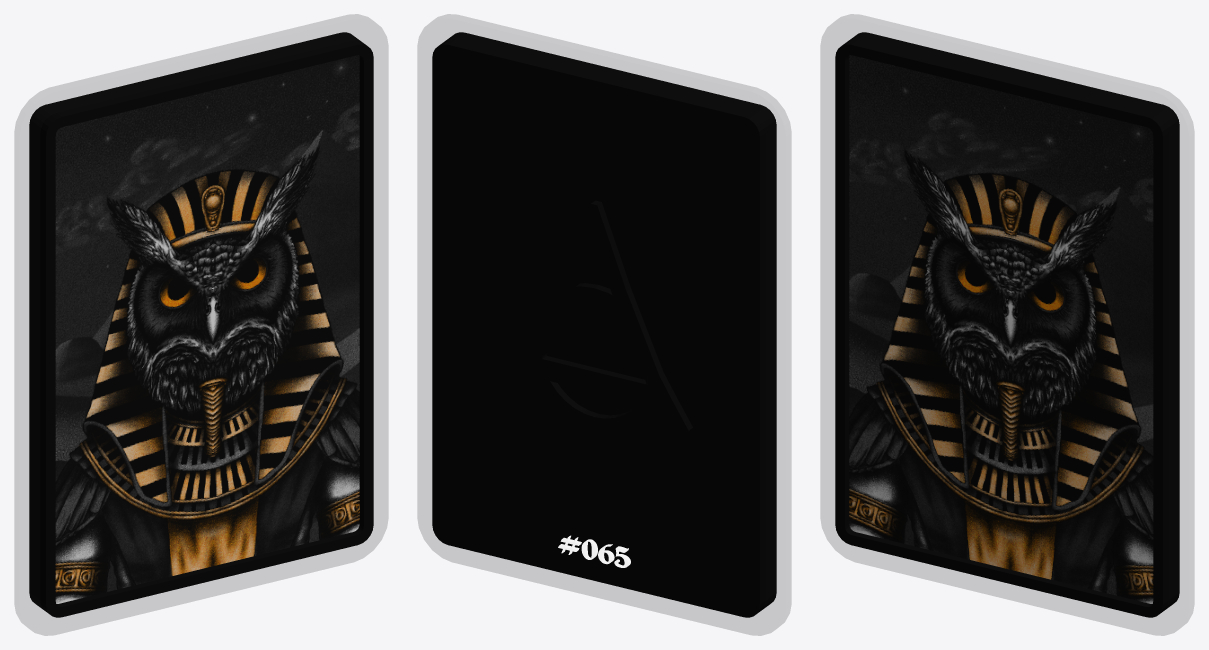
3 views of the same model, side by side, from view 1: azimuth 30°, elevation 25°; view 2: azimuth 150°, elevation 25°; view 3: azimuth 330°, elevation 25° (orthographic).
Parts seen in each view (by area): view 1: Card.147, CardBorder.147; view 2: Card.147, CardBorder.147, Площина.040, Текст; view 3: Card.147, CardBorder.147.
Part boxes in pixels (bbox=[...]): Card.147: bbox=[29, 32, 373, 617]; CardBorder.147: bbox=[15, 14, 387, 635]; Card.147: bbox=[432, 32, 776, 617]; CardBorder.147: bbox=[418, 14, 790, 635]; Площина.040: bbox=[500, 200, 692, 436]; Текст: bbox=[558, 535, 630, 567]; Card.147: bbox=[835, 32, 1179, 617]; CardBorder.147: bbox=[821, 14, 1193, 635].
Size of the model in its own units: 1.1 by 1.55 by 0.1091.
Materials: 5 (1 with a texture image).
